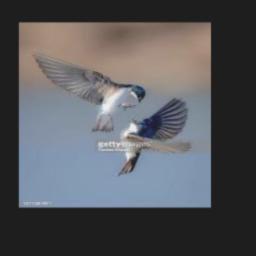Swallow: (32, 51, 146, 132), (118, 98, 191, 175)
